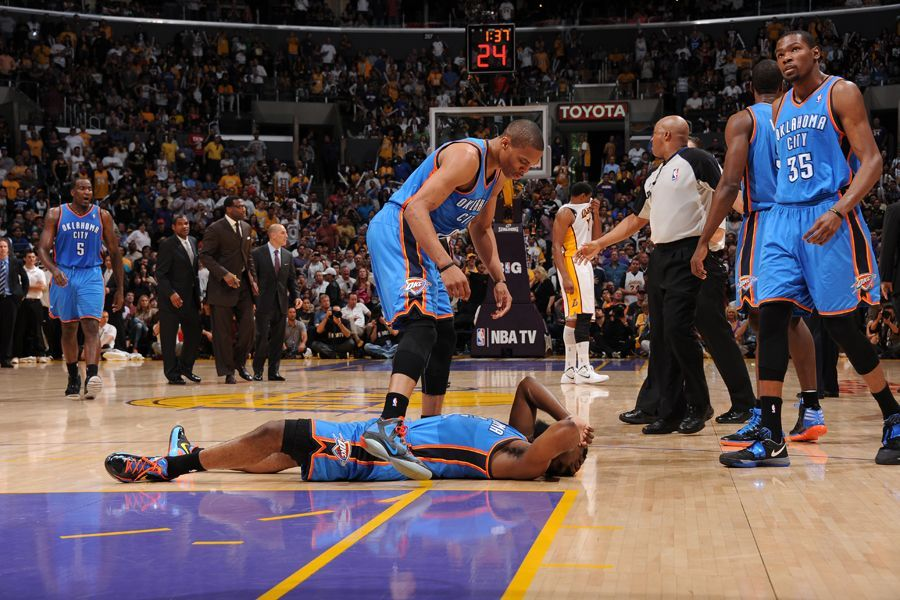10+: (5, 3, 899, 483)
down: (96, 377, 610, 496)
